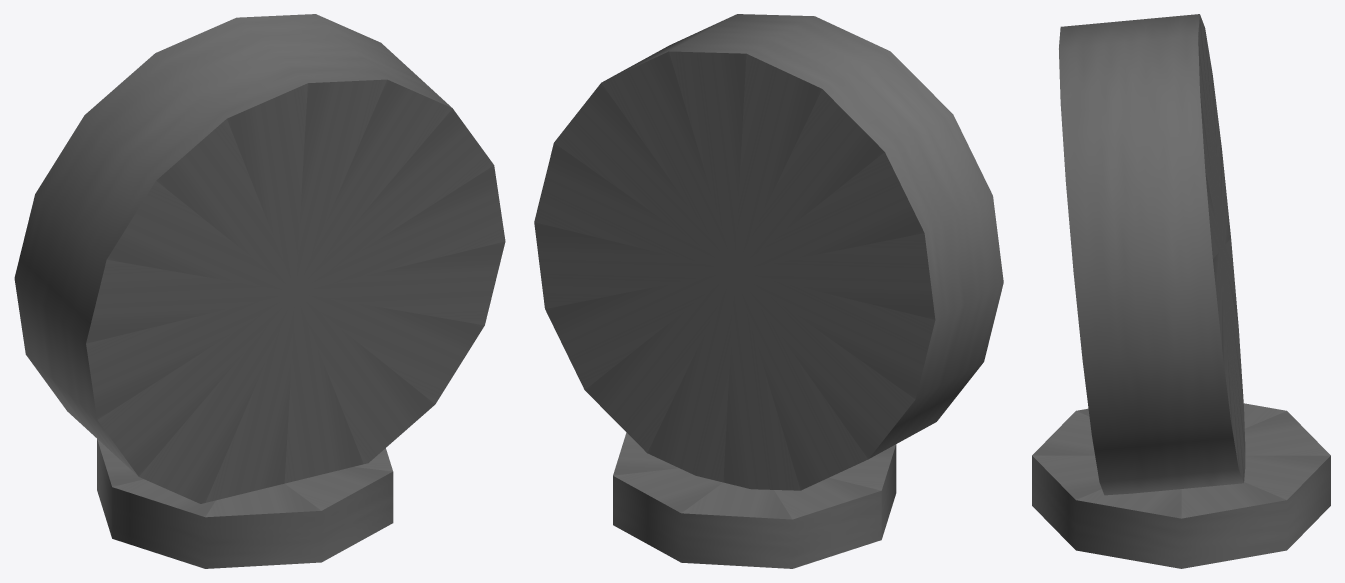
The model's file is mastarmcurve_10x2_c9_down.obj.
3 views of the same model, side by side, from view 1: azimuth 30°, elevation 25°; view 2: azimuth 150°, elevation 25°; view 3: azimuth 270°, elevation 25° (orthographic). The views are drawn at different scales.
Visible parts, largest first — view 1: mastarm_10x2_c9_down; view 2: mastarm_10x2_c9_down; view 3: mastarm_10x2_c9_down.
Boxes of the visible parts, left/top/right/bottom form: mastarm_10x2_c9_down: left=14, top=14, right=505, bottom=568; mastarm_10x2_c9_down: left=534, top=14, right=1003, bottom=568; mastarm_10x2_c9_down: left=1032, top=14, right=1330, bottom=568.
Size of the model in its own units: 0.6315 by 0.6941 by 0.4.
